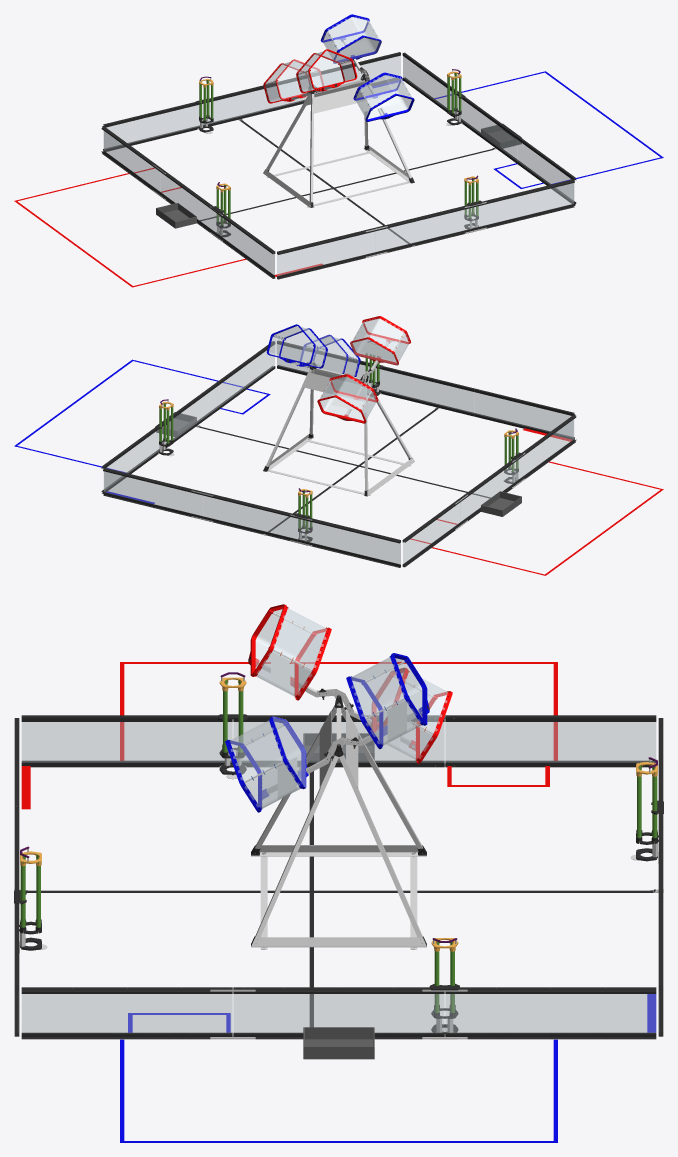
The model's file is field.glb.
3 renders of one model, top to bottom at view 1: azimuth 30°, elevation 25°; view 2: azimuth 150°, elevation 25°; view 3: azimuth 270°, elevation 25°, orthographic. The views are drawn at different scales.
Visible parts, largest first — view 1: static_part_20, static_part_6, blue_hive, static_part_4, red_hive, static_part_9, static_part_2, static_part_0, static_part_1; view 2: static_part_20, static_part_6, red_hive, static_part_4, blue_hive, static_part_9, static_part_2, static_part_1, static_part_0; view 3: static_part_20, static_part_6, blue_hive, static_part_4, red_hive, static_part_2, static_part_1, static_part_9, static_part_0, static_part_7.
Boxes of the visible parts, x1=… form: static_part_20: x1=103, y1=55, x2=574, y2=275; static_part_6: x1=101, y1=52, x2=576, y2=279; blue_hive: x1=320, y1=14, x2=414, y2=121; static_part_4: x1=152, y1=79, x2=486, y2=257; red_hive: x1=263, y1=49, x2=357, y2=103; static_part_9: x1=199, y1=73, x2=478, y2=225; static_part_2: x1=156, y1=123, x2=521, y2=228; static_part_0: x1=14, y1=168, x2=322, y2=287; static_part_1: x1=372, y1=71, x2=663, y2=188; static_part_20: x1=103, y1=344, x2=574, y2=564; static_part_6: x1=101, y1=340, x2=576, y2=567; red_hive: x1=317, y1=316, x2=410, y2=423; static_part_4: x1=157, y1=368, x2=525, y2=546; blue_hive: x1=266, y1=324, x2=360, y2=376; static_part_9: x1=159, y1=353, x2=518, y2=530; static_part_2: x1=156, y1=412, x2=521, y2=516; static_part_1: x1=14, y1=359, x2=270, y2=503; static_part_0: x1=410, y1=428, x2=663, y2=575; static_part_20: x1=18, y1=722, x2=659, y2=1033; static_part_6: x1=14, y1=695, x2=663, y2=1039; blue_hive: x1=225, y1=653, x2=429, y2=812; static_part_4: x1=16, y1=706, x2=658, y2=1039; red_hive: x1=248, y1=604, x2=452, y2=763; static_part_2: x1=303, y1=733, x2=374, y2=1059; static_part_1: x1=120, y1=994, x2=656, y2=1142; static_part_9: x1=20, y1=679, x2=657, y2=1012; static_part_0: x1=21, y1=662, x2=557, y2=809; static_part_7: x1=20, y1=677, x2=657, y2=951.
Size of the model in its own units: 6.38 by 1.7 by 3.65.
